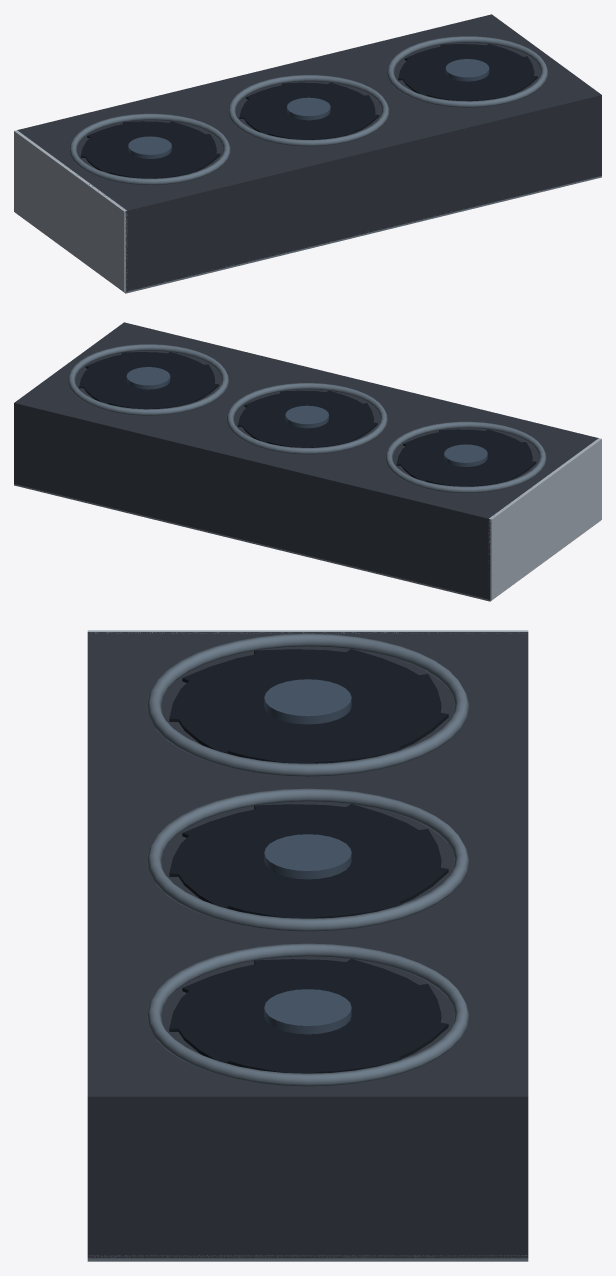
The model's file is retail-msi-geforce-rtx-5070-12g-ventus-3x-oc.glb.
3 views of the same model, one above another, from view 1: azimuth 30°, elevation 25°; view 2: azimuth 150°, elevation 25°; view 3: azimuth 270°, elevation 25° (orthographic). The views are drawn at different scales.
Visible parts, largest first — view 1: Cooler shroud, Cooler blade (×27), Bracket, Fan rim (×3), Fan hub (×3), Backplate; view 2: Cooler shroud, Cooler blade (×27), Bracket, Fan rim (×3), Fan hub (×3), Backplate; view 3: Cooler shroud, Cooler blade (×27), Fan rim (×3), Fan hub (×3), Backplate, Bracket.
Part boxes in pixels (bbox=[...]): Cooler shroud: bbox=[17, 14, 601, 291]; Cooler blade (×27): bbox=[80, 44, 537, 178]; Bracket: bbox=[14, 130, 127, 292]; Fan rim (×3): bbox=[69, 36, 547, 184]; Fan hub (×3): bbox=[128, 59, 489, 158]; Backplate: bbox=[23, 176, 601, 293]; Cooler shroud: bbox=[14, 322, 598, 599]; Cooler blade (×27): bbox=[79, 352, 536, 486]; Bracket: bbox=[488, 438, 601, 600]; Fan rim (×3): bbox=[68, 344, 546, 492]; Fan hub (×3): bbox=[126, 367, 487, 466]; Backplate: bbox=[14, 484, 592, 601]; Cooler shroud: bbox=[87, 632, 528, 1258]; Cooler blade (×27): bbox=[169, 649, 448, 1073]; Fan rim (×3): bbox=[146, 633, 469, 1086]; Fan hub (×3): bbox=[264, 679, 351, 1034]; Backplate: bbox=[87, 1255, 528, 1261]; Bracket: bbox=[87, 630, 528, 633].
Bounding box in the file's own units: 0.303 × 0.0535 × 0.121.
